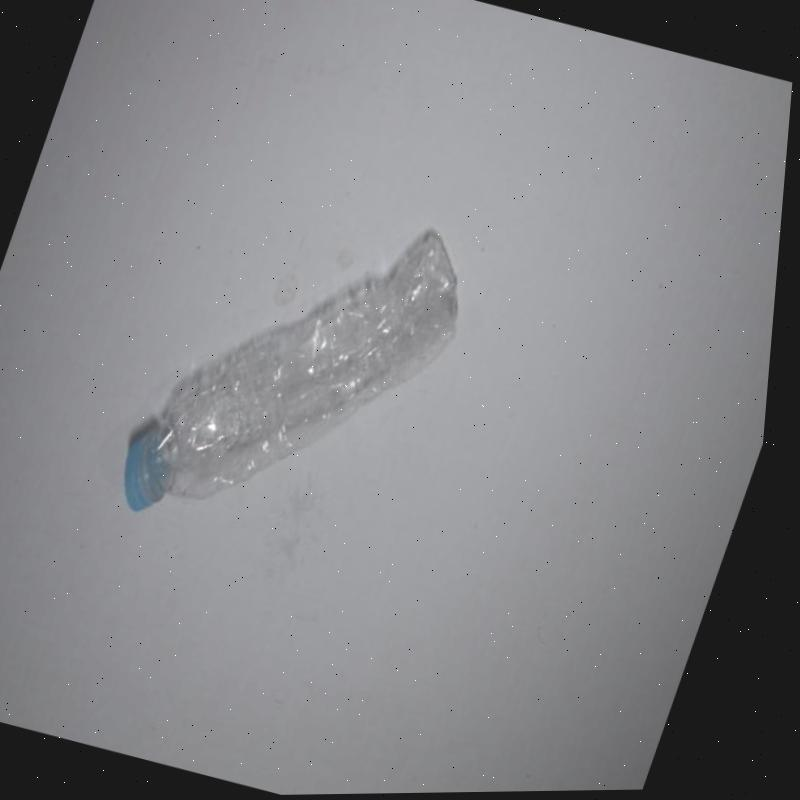botella: (110, 173, 494, 575)
